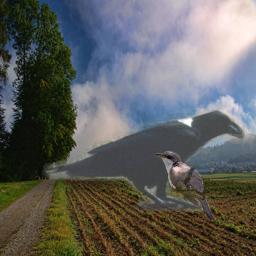Crow: (42, 108, 245, 211)
Cuckoo: (153, 149, 214, 223)
